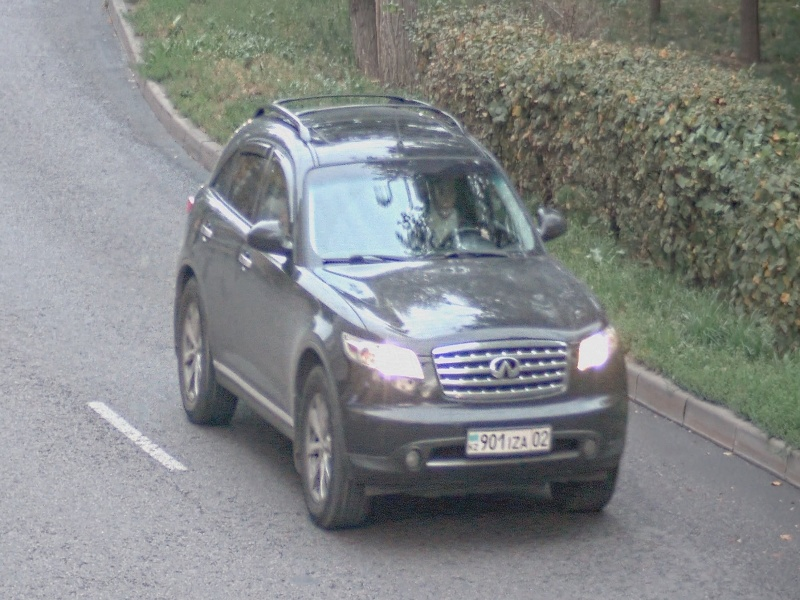plate: (465, 424, 552, 458)
